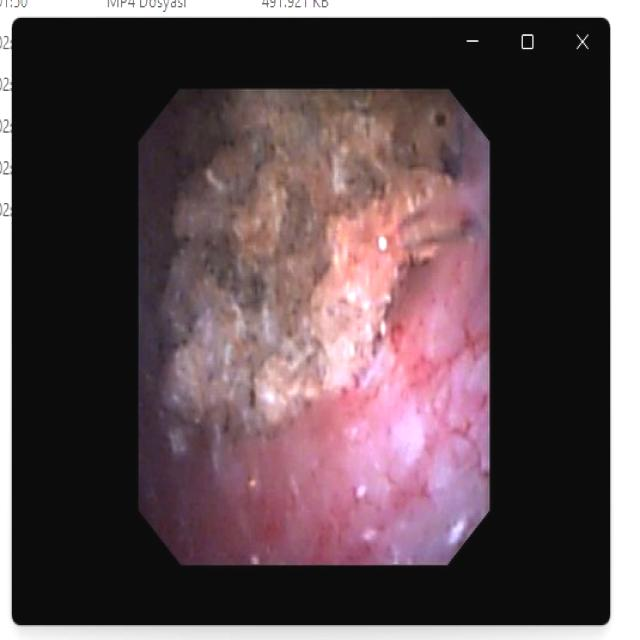stone: (155, 94, 463, 456)
